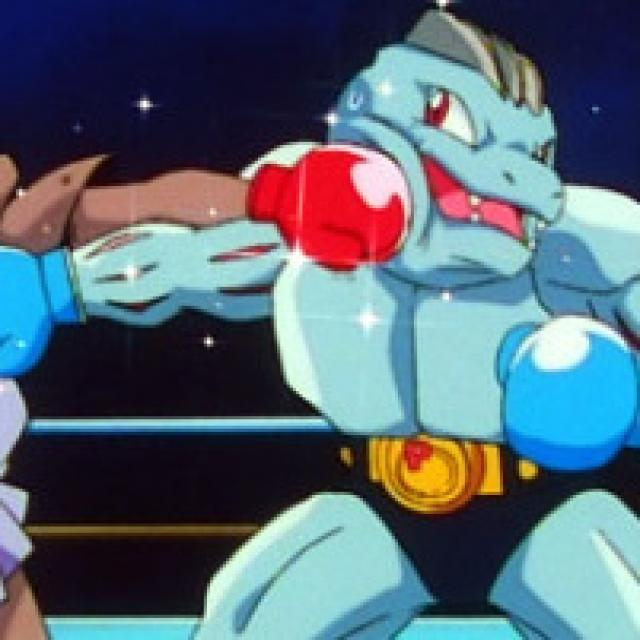Machoke: (211, 33, 640, 640)
